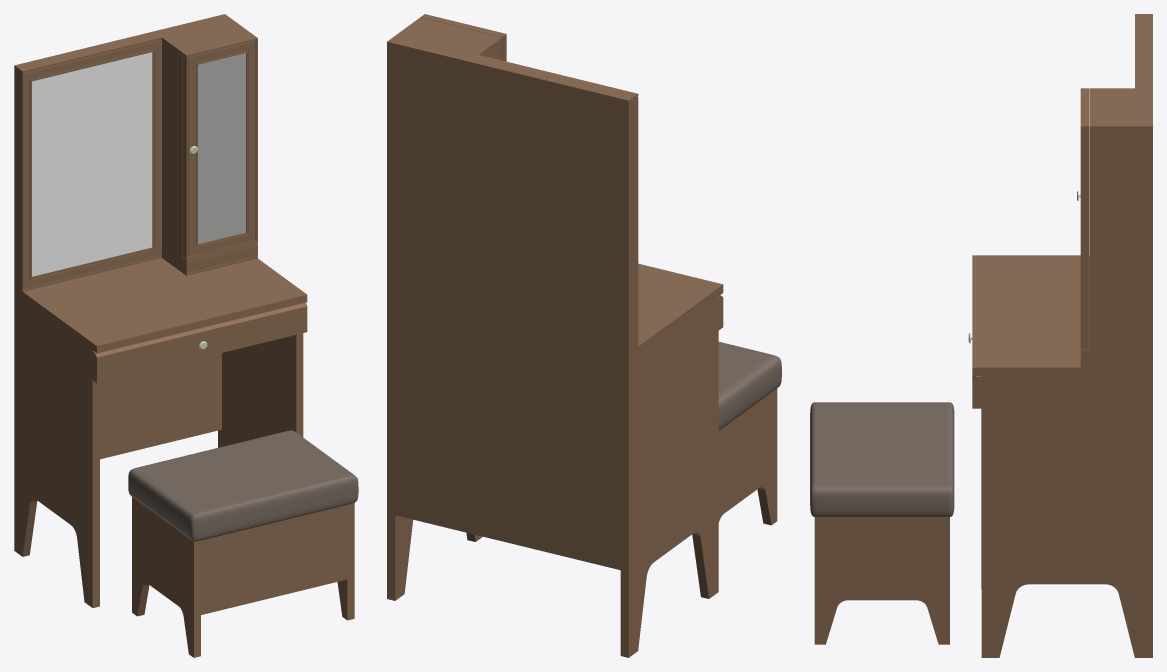
File: 517_ドレッサー.glb
3 views of the same model, side by side, from view 1: azimuth 30°, elevation 25°; view 2: azimuth 150°, elevation 25°; view 3: azimuth 270°, elevation 25° (orthographic). The views are drawn at different scales.
Visible parts, largest first — view 1: Body, stool, door, hikidashi; view 2: Body, stool; view 3: Body, stool, door.
Boxes of the visible parts, x1,y1,x2,y2 form: Body: (14,14,307,607); stool: (128,430,358,657); door: (182,35,257,259); hikidashi: (92,302,307,383); Body: (387,17,723,657); stool: (718,341,781,525); Body: (972,14,1152,657); stool: (810,402,954,644); door: (1077,88,1089,349).
Size of the model in its own units: 0.59 by 1.3 by 0.76.
